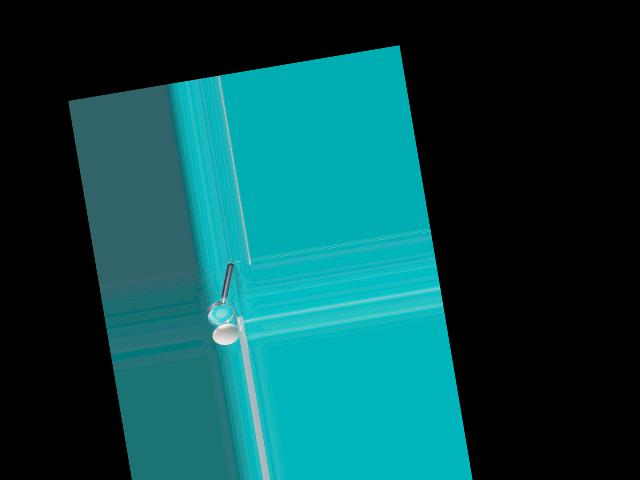egg: (211, 321, 241, 347)
